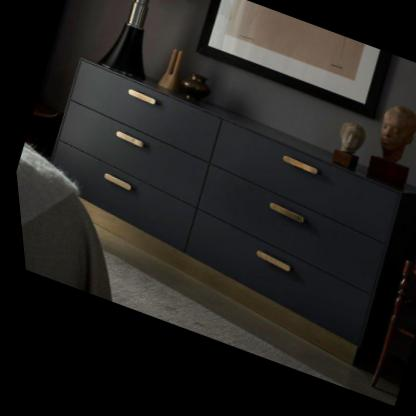Sideboard: (12, 57, 416, 358)
